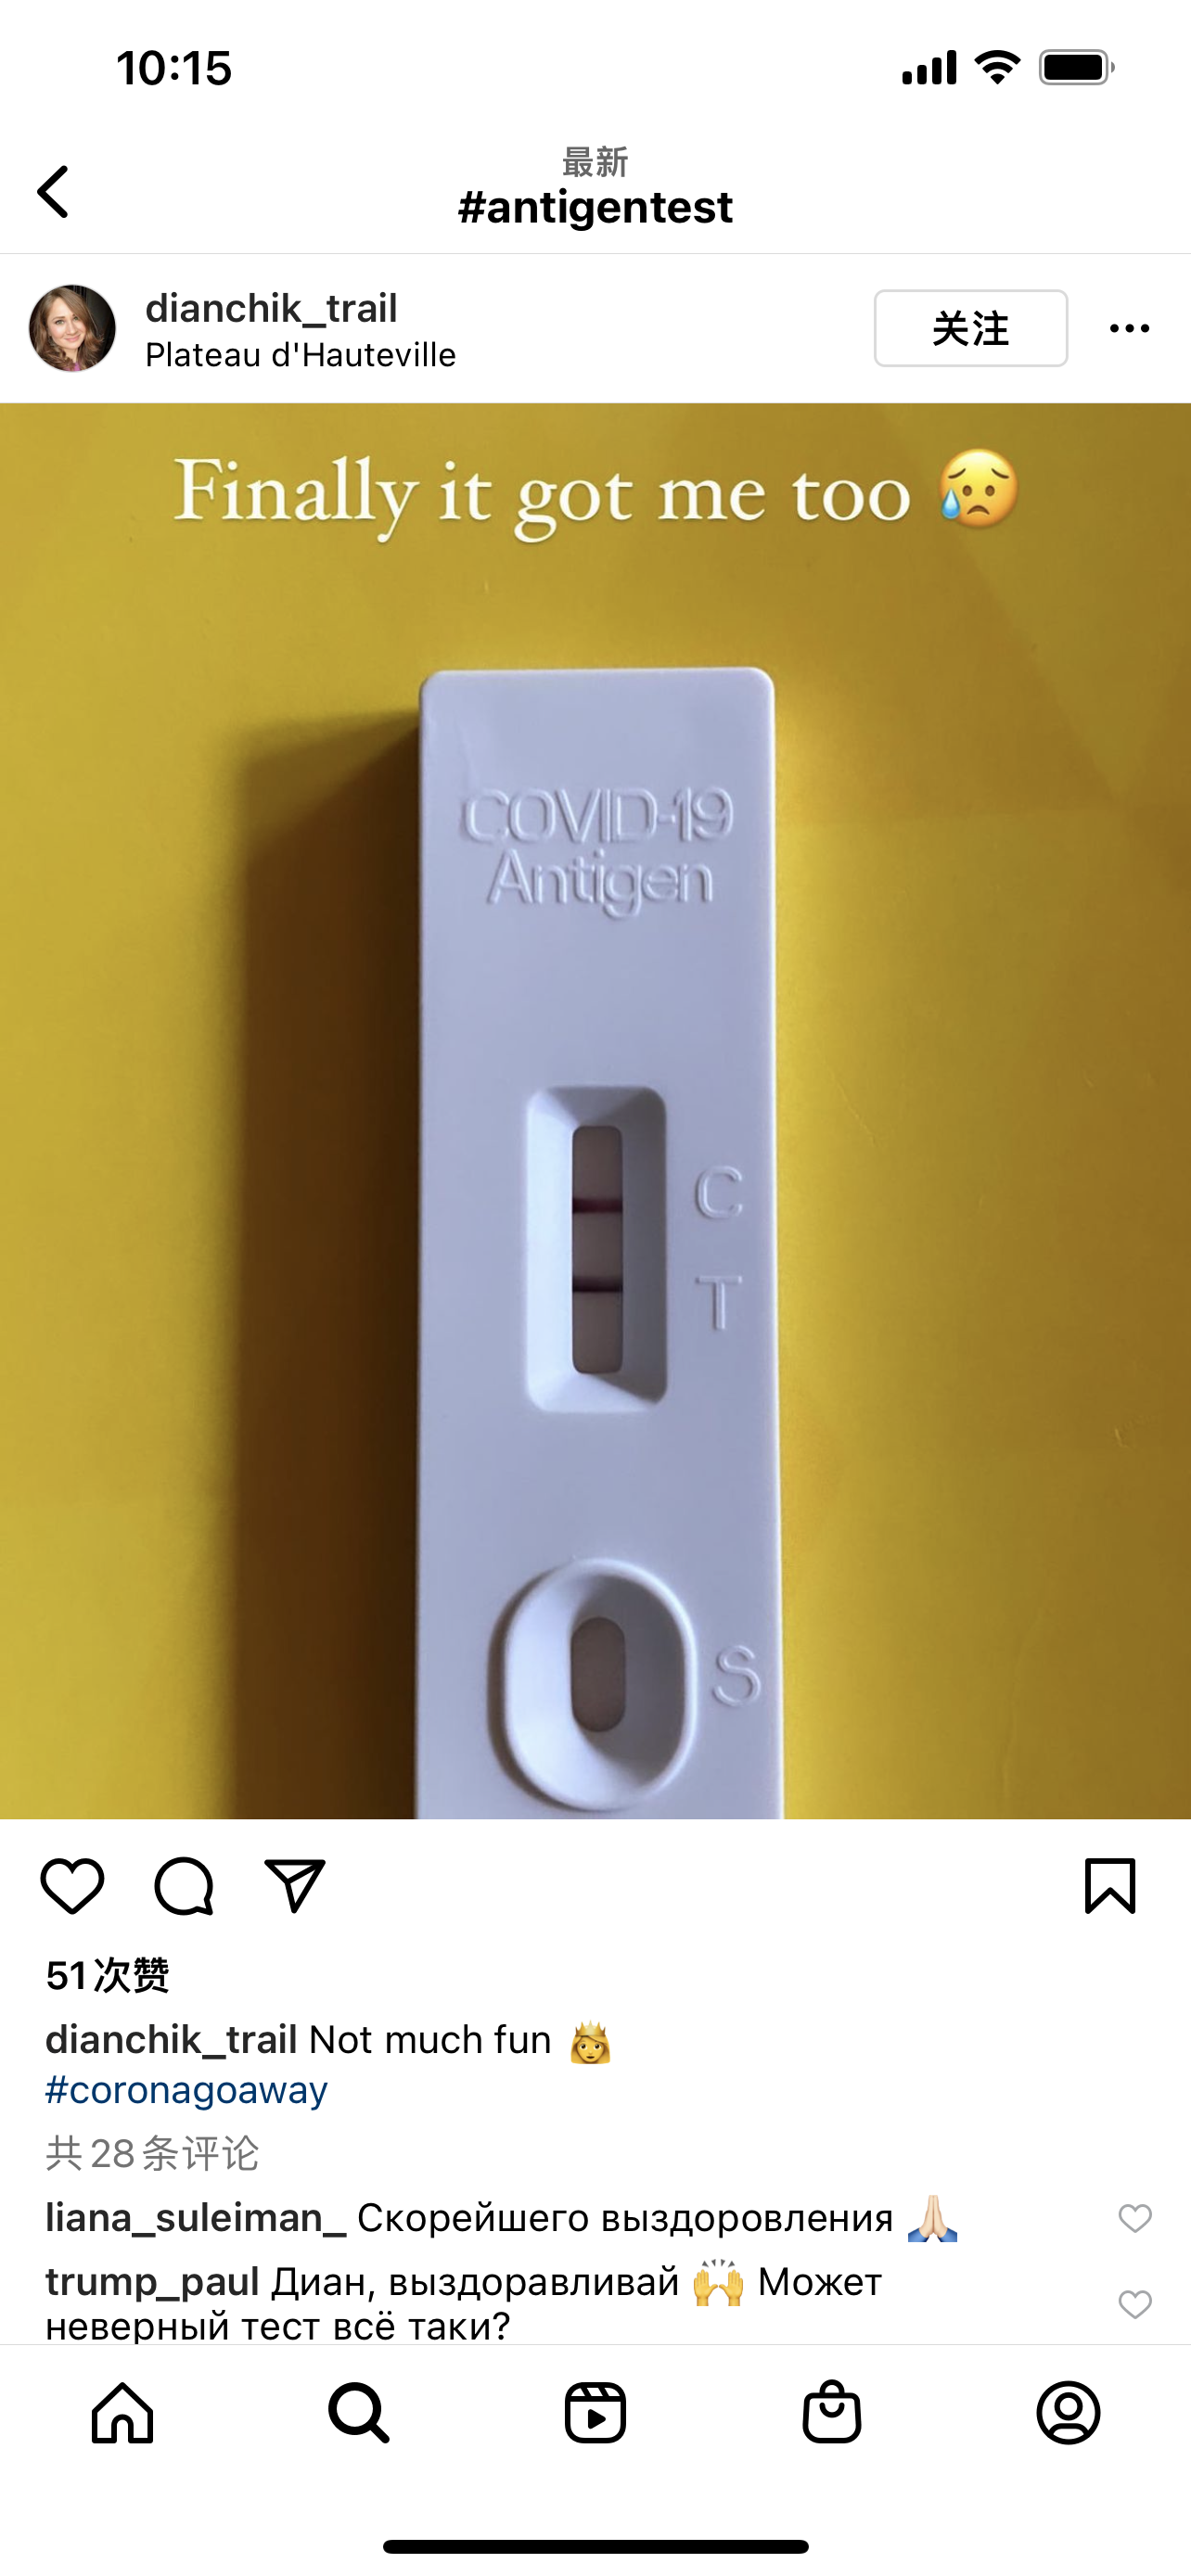positive: (542, 1099, 654, 1401)
